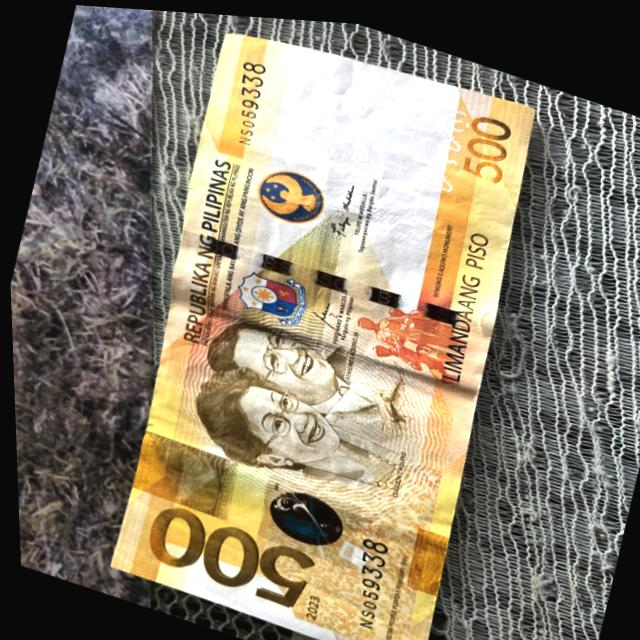concealed_value: (124, 424, 240, 518)
optically_variable_device: (253, 473, 348, 550)
security_thread: (172, 216, 489, 339)
see_through_mark: (414, 87, 473, 190)
serial_number: (323, 516, 399, 631), (214, 45, 282, 151)
value: (133, 495, 317, 613)
value_watermark: (365, 80, 433, 124)
watermark: (243, 44, 444, 208)
